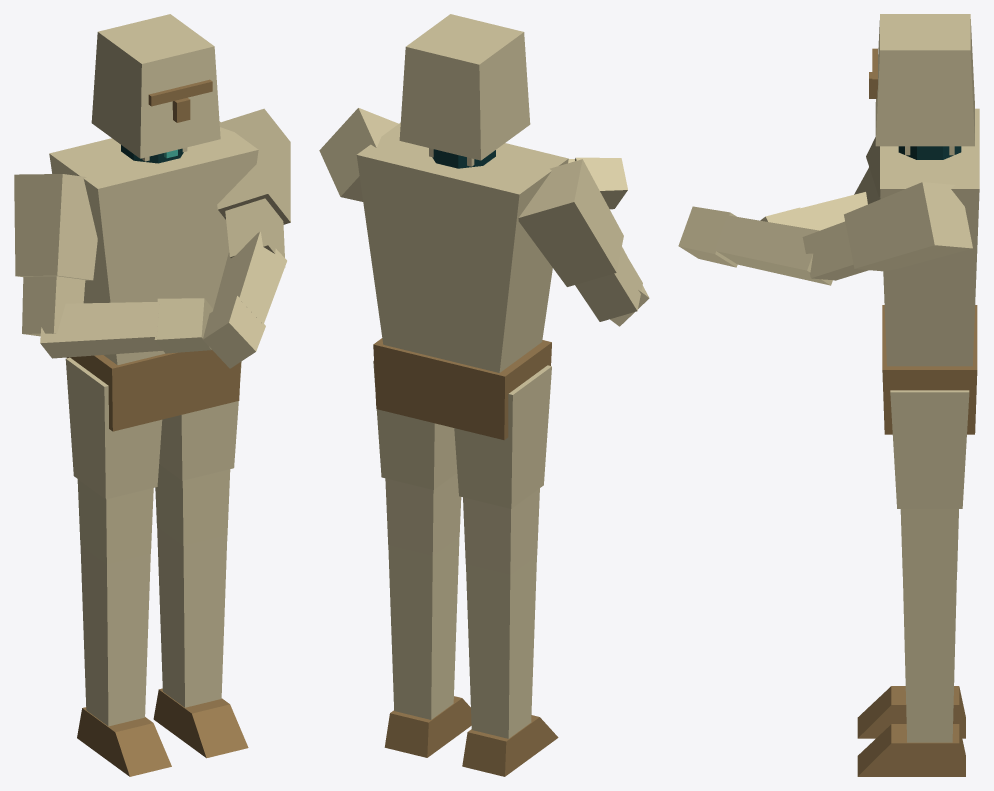
File: basic.glb
3 views of the same model, side by side, from view 1: azimuth 30°, elevation 25°; view 2: azimuth 150°, elevation 25°; view 3: azimuth 270°, elevation 25° (orthographic). The views are drawn at different scales.
Parts seen in each view (by area): view 1: torso, head, leg_r_lower, leg_l_lower, leg_r, arm_r, leg_l, arm_r_lower, arm_l, arm_l_lower; view 2: torso, head, leg_r_lower, leg_l_lower, leg_r, arm_r, leg_l, arm_l, arm_l_lower; view 3: torso, head, leg_l_lower, leg_l, arm_l, arm_l_lower, leg_r_lower, arm_r_lower, arm_r.
Boxes of the visible parts, x1,y1,x2,y2 form: torso: (49,121,258,431); head: (91,14,220,163); leg_r_lower: (77,546,171,776); leg_l_lower: (153,527,248,758); leg_r: (65,357,162,564); arm_r: (14,174,97,336); leg_l: (155,361,241,545); arm_r_lower: (40,298,213,358); arm_l: (217,108,290,257); arm_l_lower: (202,232,286,368); torso: (356,123,568,439); head: (399,14,530,168); leg_r_lower: (462,556,558,776); leg_l_lower: (384,537,471,757); leg_r: (454,365,551,574); arm_r: (518,159,642,321); leg_l: (373,360,461,555); arm_l: (319,108,398,201); arm_l_lower: (568,157,627,209); torso: (880,108,979,434); head: (869,14,974,159); leg_l_lower: (857,576,965,776); leg_l: (890,390,969,576); arm_l: (802,182,972,280); arm_l_lower: (678,206,832,285); leg_r_lower: (857,686,965,738); arm_r_lower: (760,192,867,230); arm_r: (854,137,880,204).
Size of the model in its own units: 0.7612 by 1.74 by 0.6662.
